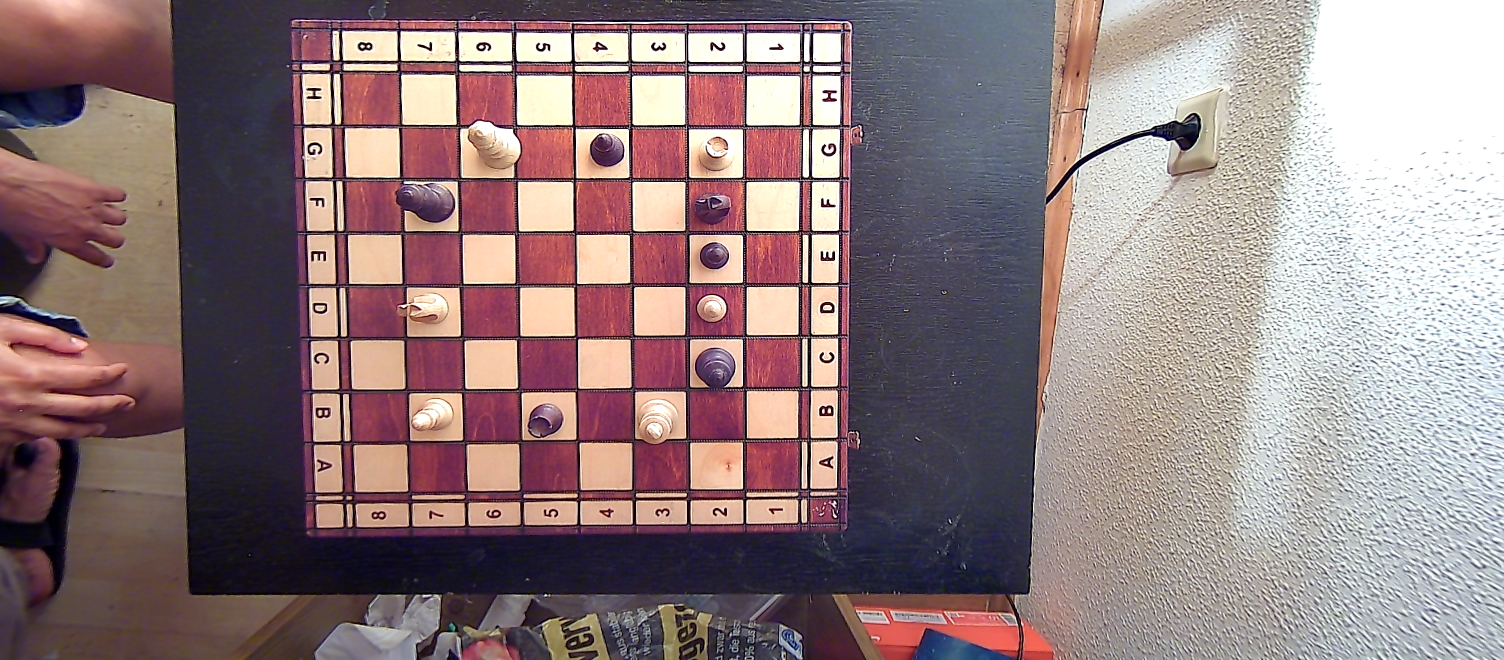black-bishop: (586, 124, 633, 174)
black-king: (694, 344, 738, 391)
black-knight: (691, 190, 734, 223)
black-pawn: (699, 238, 731, 275)
black-queen: (393, 180, 456, 226)
black-rook: (526, 400, 566, 441)
white-bishop: (410, 396, 456, 434)
white-king: (635, 395, 681, 447)
white-knight: (393, 289, 455, 330)
white-pawn: (695, 291, 728, 327)
white-queen: (464, 119, 520, 170)
white-rook: (695, 133, 738, 172)
